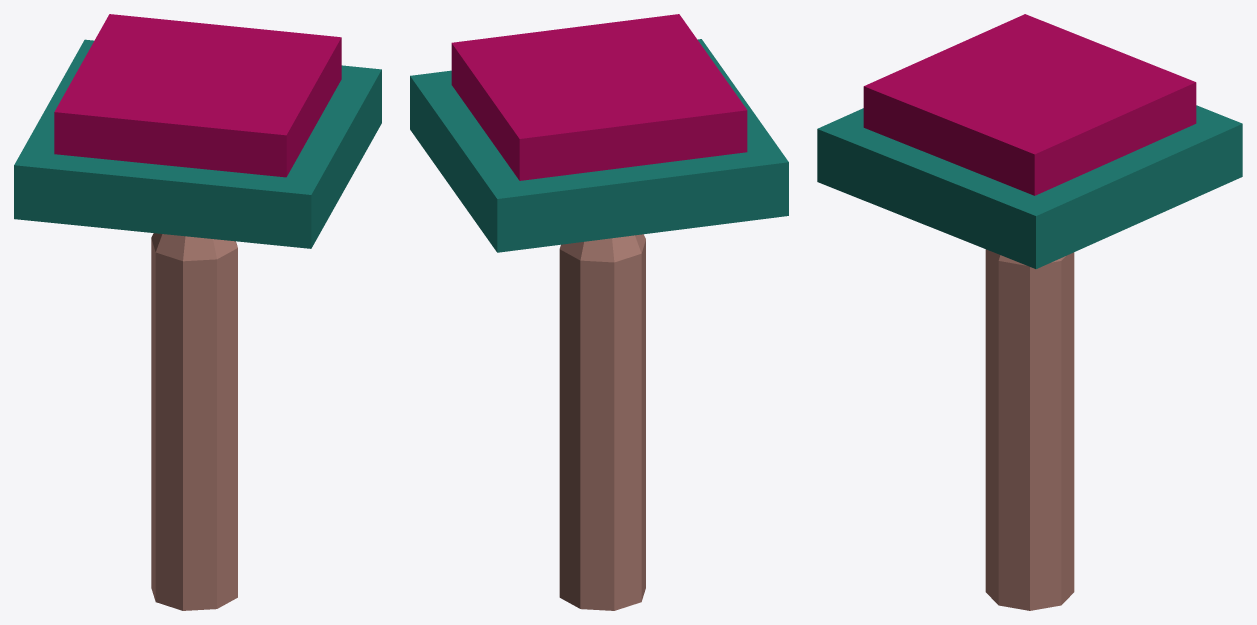
File: Tower01.fbx
3 renders of one model, left to right at view 1: azimuth 30°, elevation 25°; view 2: azimuth 150°, elevation 25°; view 3: azimuth 270°, elevation 25°, orthographic.
Parts seen in each view (by area): view 1: Cylinder.001, Cylinder; view 2: Cylinder.001, Cylinder; view 3: Cylinder.001, Cylinder.
Boxes of the visible parts, x1,y1,x2,y2 form: Cylinder.001: (14,14,381,248); Cylinder: (151,233,237,610); Cylinder.001: (410,14,788,252); Cylinder: (559,234,645,610); Cylinder.001: (817,14,1242,268); Cylinder: (985,249,1074,610).
Size of the model in its own units: 961 by 1270 by 961.
